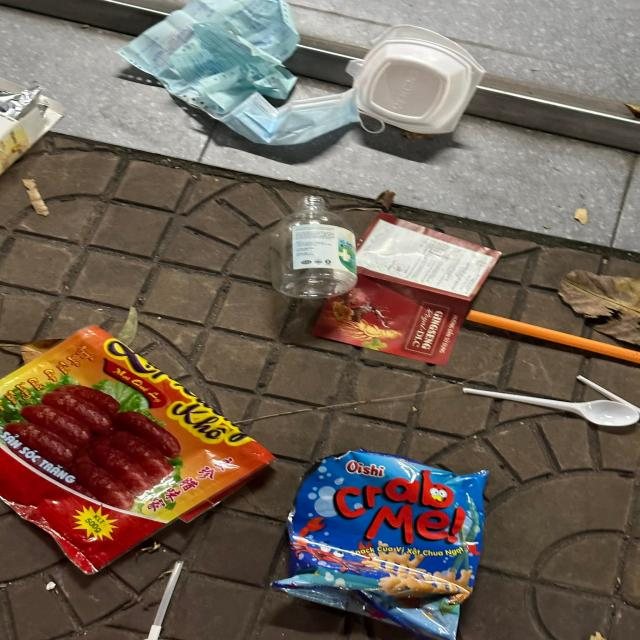bottle: (279, 197, 359, 298)
cardboard box: (0, 87, 65, 178)
drinking straw: (460, 309, 640, 367)
foam box: (348, 23, 483, 137)
mask: (206, 92, 359, 147)
paper: (311, 211, 502, 365), (116, 0, 301, 90), (163, 24, 294, 116)
plastic utensil: (465, 383, 640, 428), (147, 559, 186, 640)
snack package: (0, 327, 276, 580), (275, 450, 487, 640)
